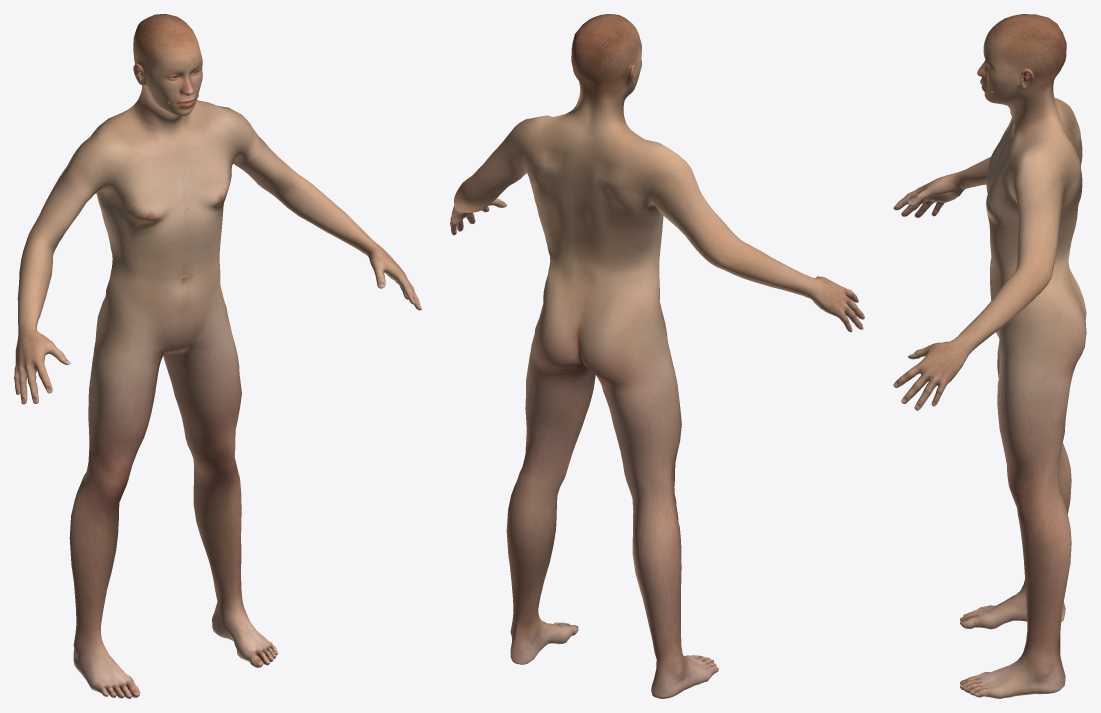
Rendered from patient.glb.
3 views of the same model, side by side, from view 1: azimuth 30°, elevation 25°; view 2: azimuth 150°, elevation 25°; view 3: azimuth 270°, elevation 25° (orthographic).
Visible parts, largest first — view 1: Patient; view 2: Patient; view 3: Patient.
Part boxes in pixels (bbox=[...]): Patient: bbox=[14, 14, 421, 698]; Patient: bbox=[450, 14, 864, 698]; Patient: bbox=[893, 14, 1086, 698].
Bounding box in the file's own units: 1.12 × 1.73 × 0.4716.
4 materials, 1 textured.
